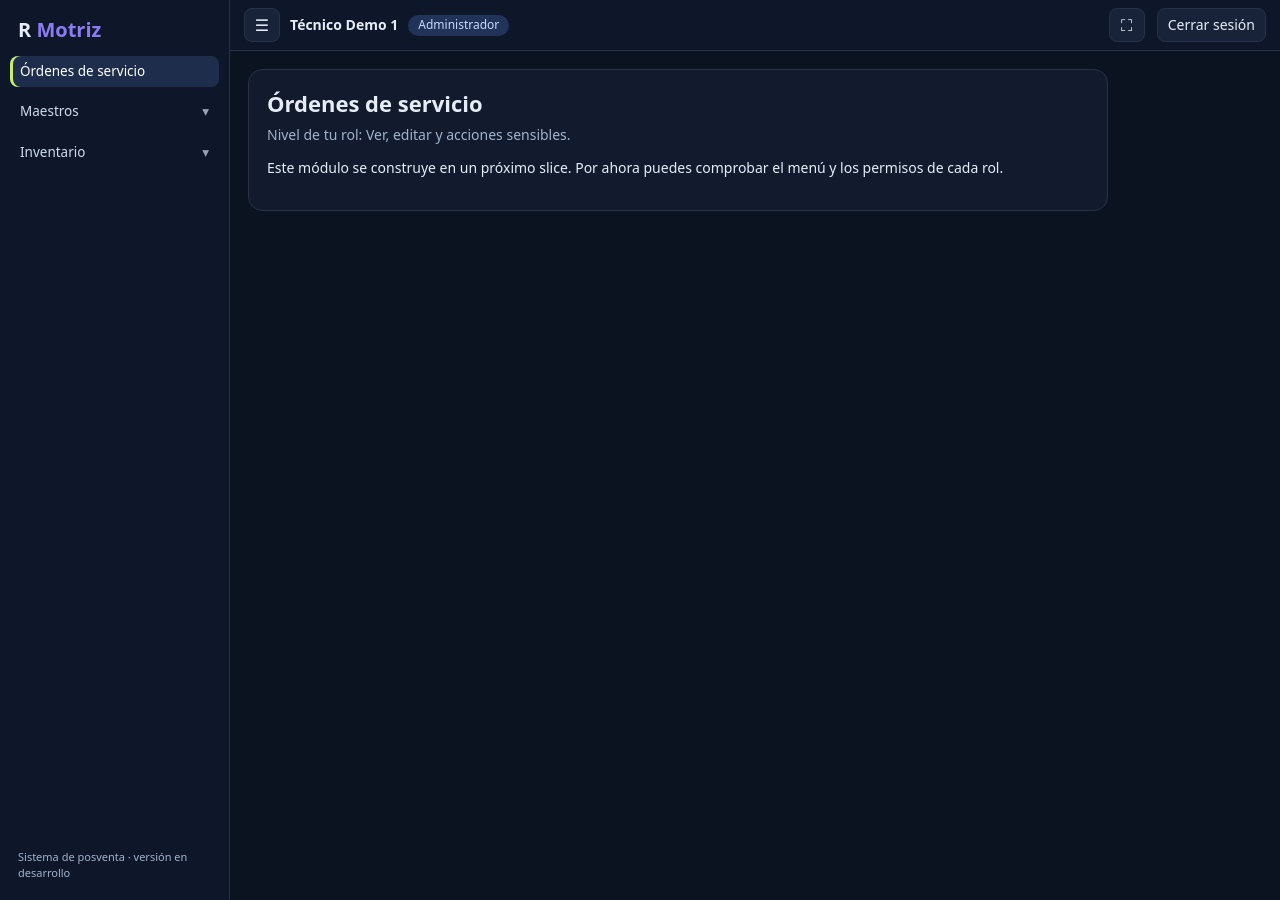
Test: acordeón: al abrir una lista se cierran las demás
Expected: the link "Órdenes de servicio" is shown, top-left (10, 56), bottom-right (219, 87)
Expected: the link "Clientes" is not shown
Click the button "Maestros ▾": (114, 111) top-left (10, 95), bottom-right (219, 128)
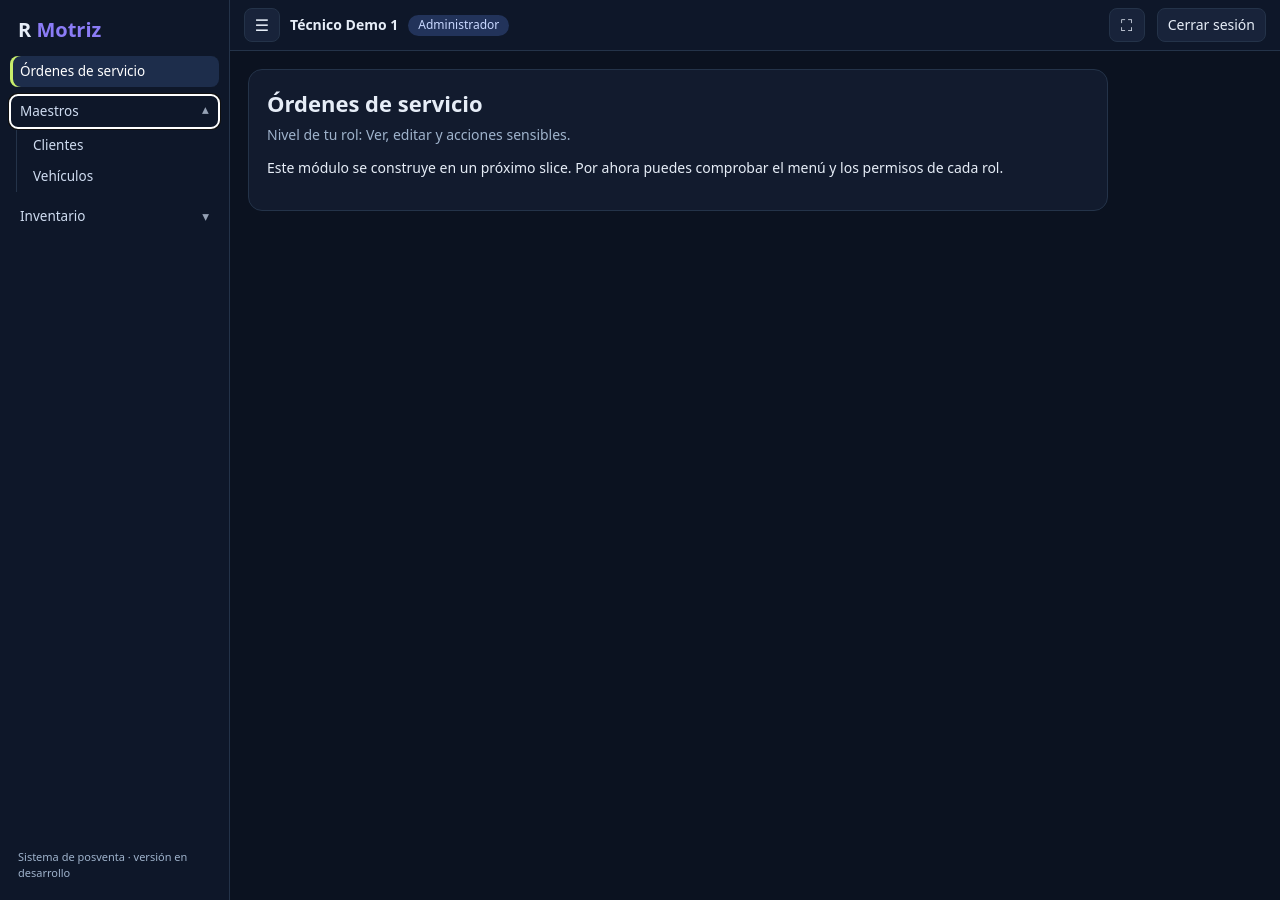
Now the link "Clientes" is shown, box top-left (33, 136), bottom-right (83, 154)
Click the button "Inventario ▾": (114, 216) top-left (10, 200), bottom-right (219, 232)
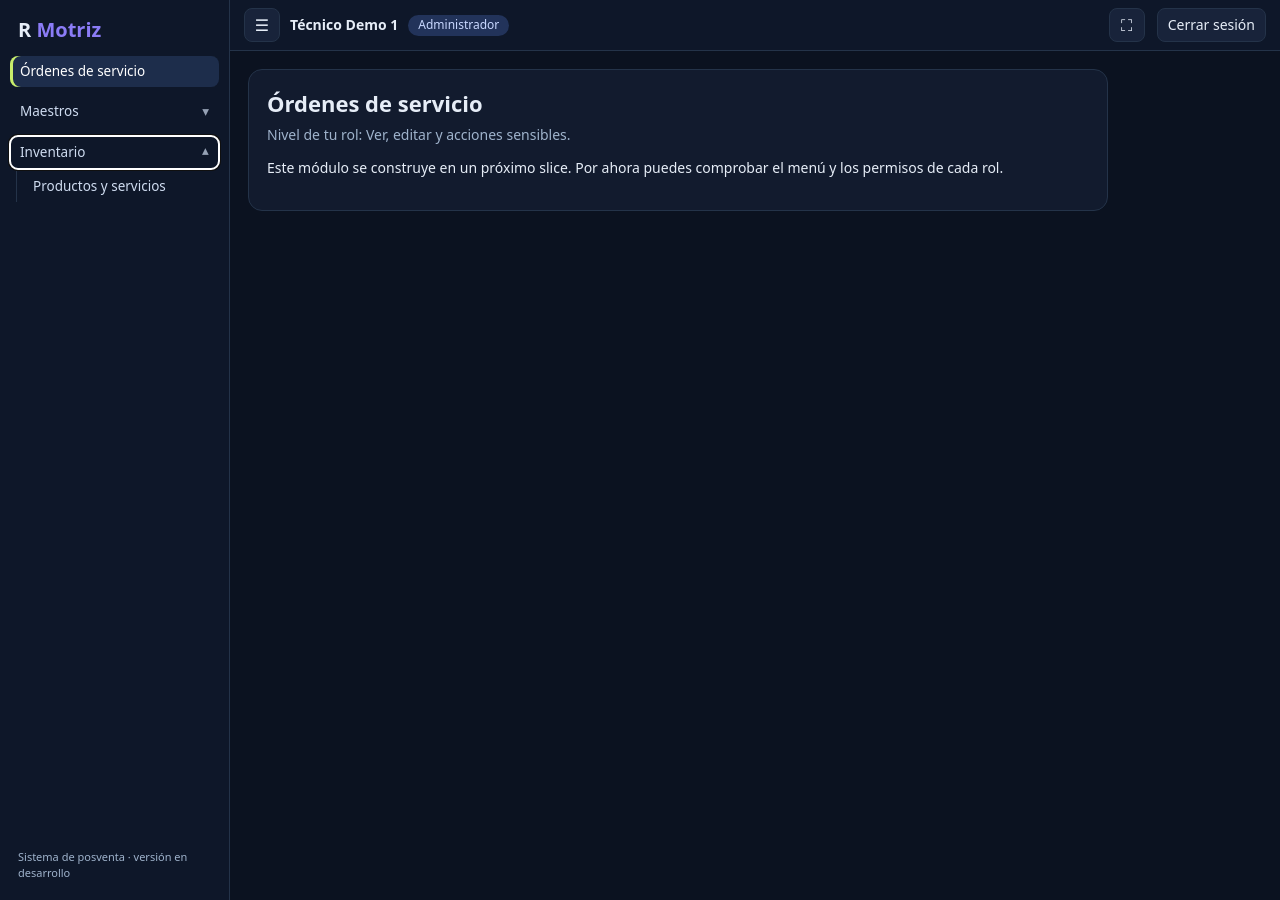
Now the link "Productos y servicios" is shown, box top-left (33, 177), bottom-right (166, 195)
Now the link "Clientes" is gone
Now the button "Inventario ▾" is expanded, box top-left (10, 136), bottom-right (219, 169)
